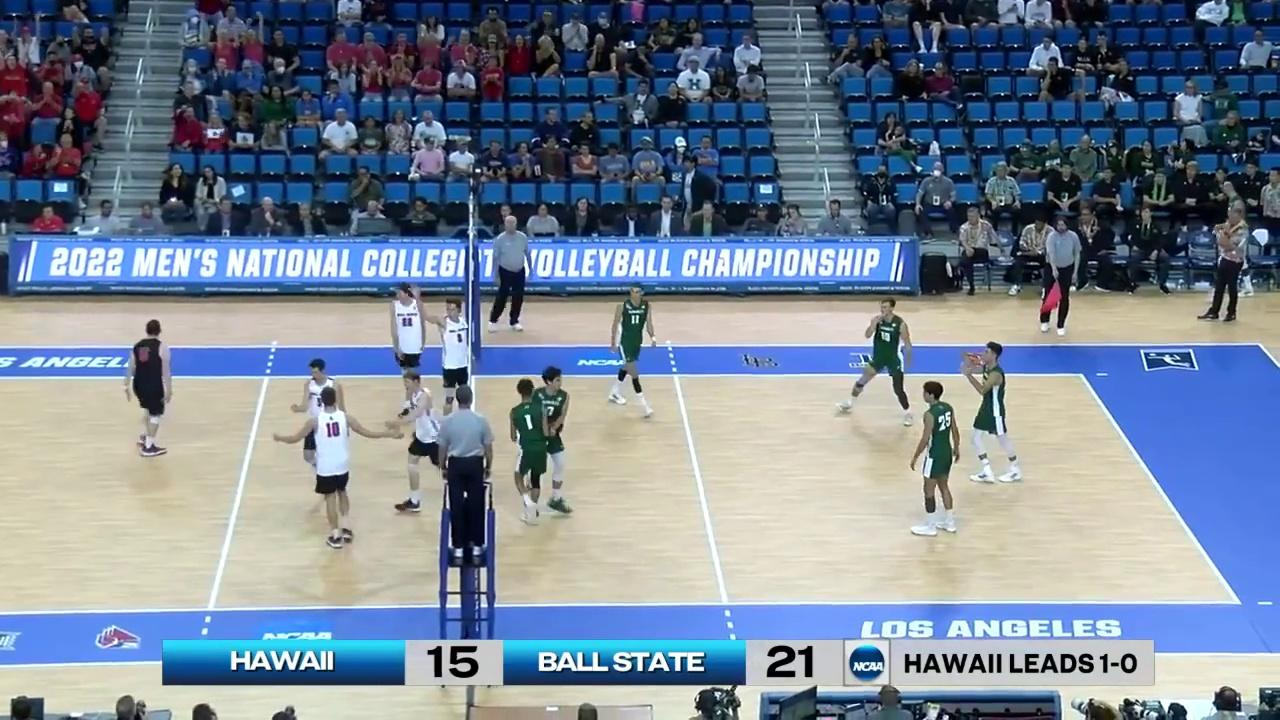player: (298, 390, 369, 550), (835, 297, 915, 428), (912, 382, 968, 535), (392, 370, 451, 513), (966, 344, 1021, 484), (529, 367, 575, 517), (608, 283, 658, 418), (126, 320, 173, 457), (386, 284, 433, 419), (303, 358, 345, 503), (432, 297, 473, 431), (511, 379, 547, 523)
refree: (430, 385, 495, 564), (1039, 216, 1080, 337), (489, 215, 530, 331)
